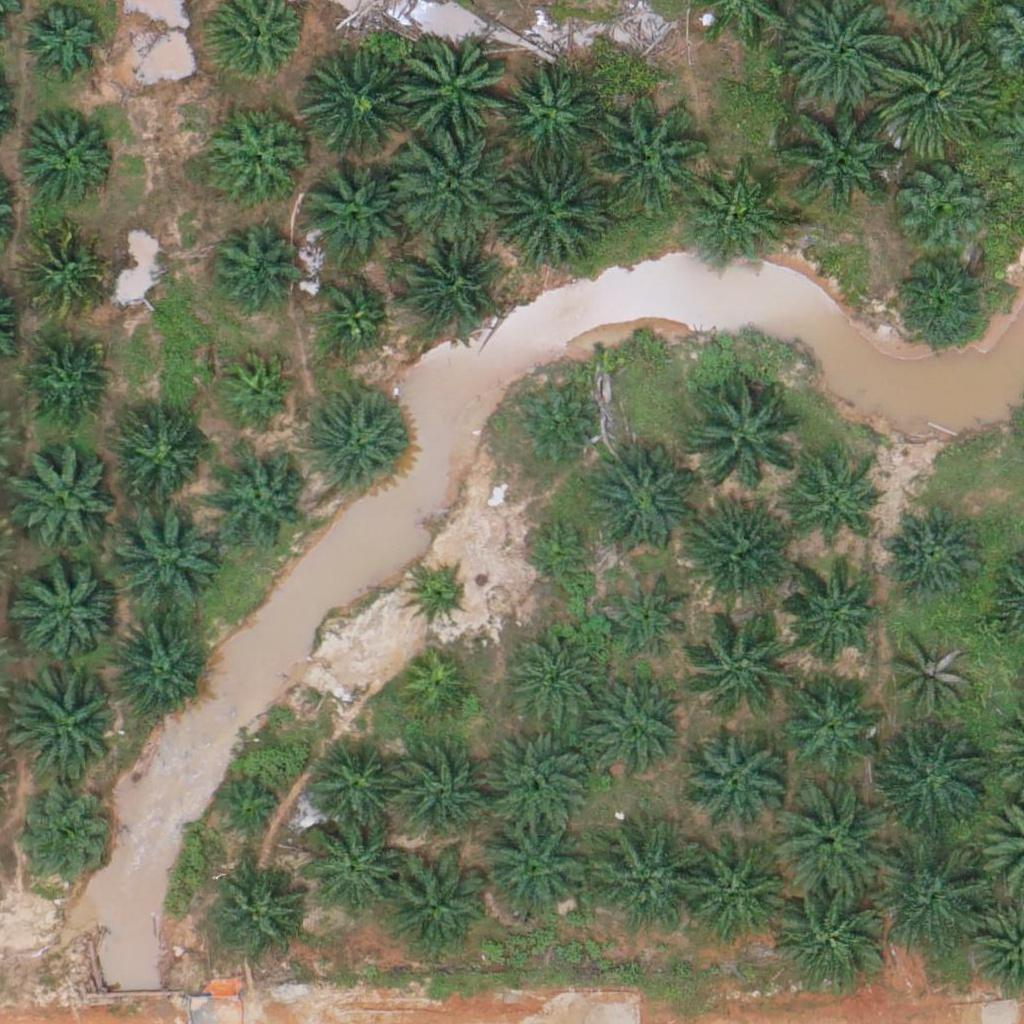Kelapa_Sawit: (491, 156, 604, 270), (775, 884, 888, 997), (688, 374, 801, 487), (582, 447, 695, 560), (480, 725, 593, 838), (477, 813, 590, 926), (379, 852, 492, 965), (108, 498, 221, 611), (9, 442, 122, 555), (13, 553, 126, 666), (879, 35, 992, 148), (298, 52, 411, 165), (687, 605, 799, 719), (585, 822, 697, 936), (880, 843, 992, 956), (876, 722, 988, 835), (780, 98, 892, 211), (774, 784, 886, 897), (675, 841, 787, 954), (678, 502, 790, 615), (591, 98, 703, 211), (399, 131, 511, 244), (12, 665, 124, 778), (398, 35, 510, 148), (780, 568, 880, 669), (682, 730, 782, 831), (299, 161, 399, 262), (582, 681, 682, 782), (390, 747, 490, 848), (305, 738, 405, 839), (107, 619, 207, 720), (207, 864, 307, 965), (19, 103, 119, 204), (15, 792, 115, 893), (498, 62, 598, 163), (890, 250, 990, 350), (881, 503, 981, 603), (780, 672, 880, 772), (687, 171, 787, 271), (397, 236, 497, 336), (307, 396, 407, 496), (505, 629, 605, 729), (300, 818, 400, 918), (210, 104, 310, 204), (213, 449, 313, 549), (894, 157, 982, 245), (605, 575, 693, 663), (510, 383, 598, 471), (207, 221, 295, 309), (118, 416, 206, 504), (18, 227, 106, 315), (890, 634, 977, 722), (792, 464, 879, 552), (21, 335, 108, 423), (219, 352, 294, 428), (314, 278, 389, 353), (522, 514, 597, 589), (398, 652, 473, 727), (213, 776, 288, 851), (407, 565, 470, 628)
